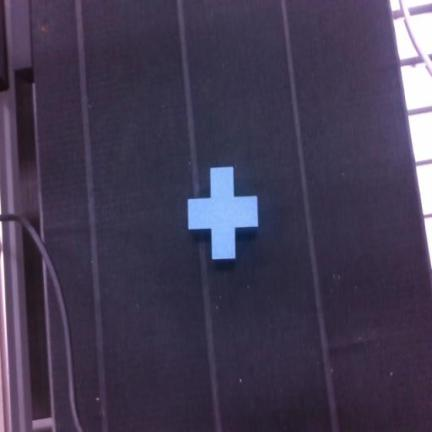cross: (189, 168, 258, 259)
